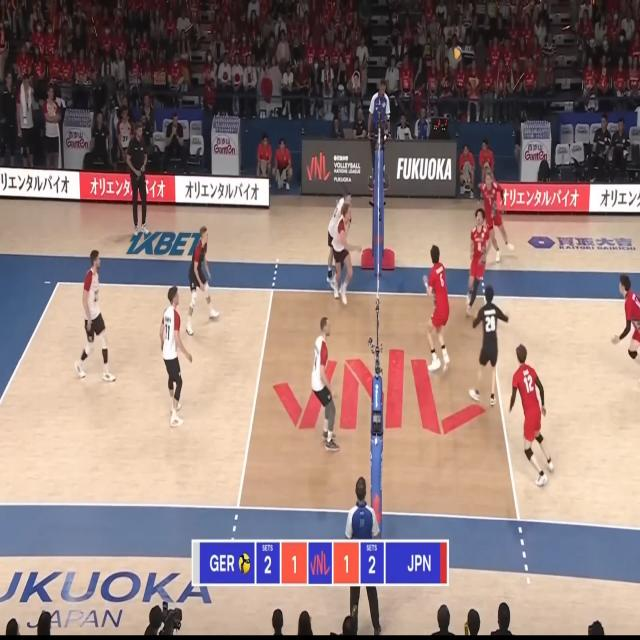ball: (454, 46, 462, 60)
